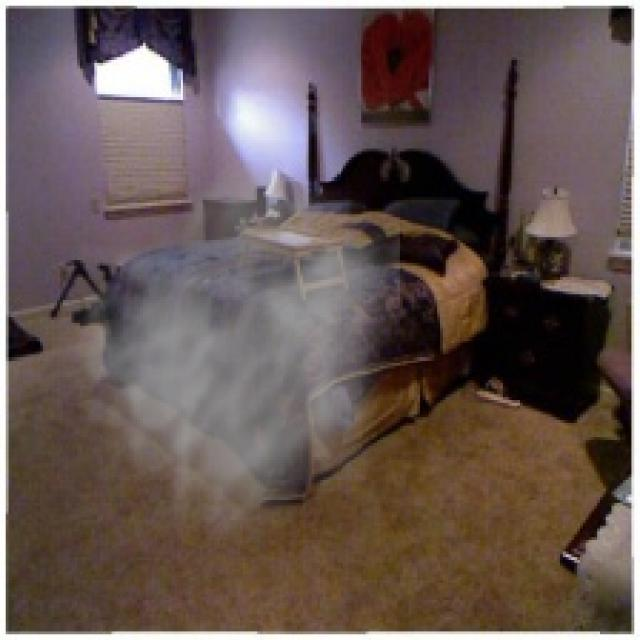smoke: (40, 140, 400, 557)
